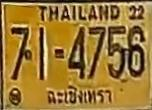1: (38, 27, 45, 81)
4: (67, 26, 84, 78)
5: (106, 25, 126, 78)
6: (126, 25, 144, 76)
7: (10, 26, 30, 78), (88, 26, 105, 78)
CCO: (44, 84, 114, 107)
